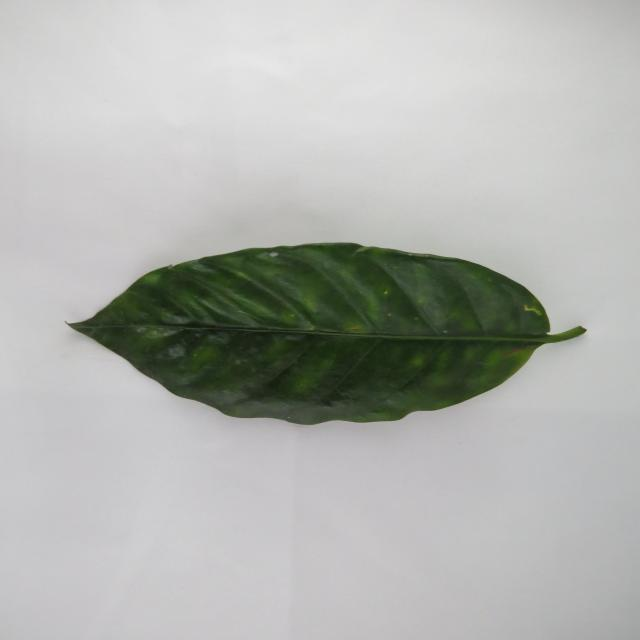DeficienciaNutricional-Magnesio: (70, 244, 585, 424)
